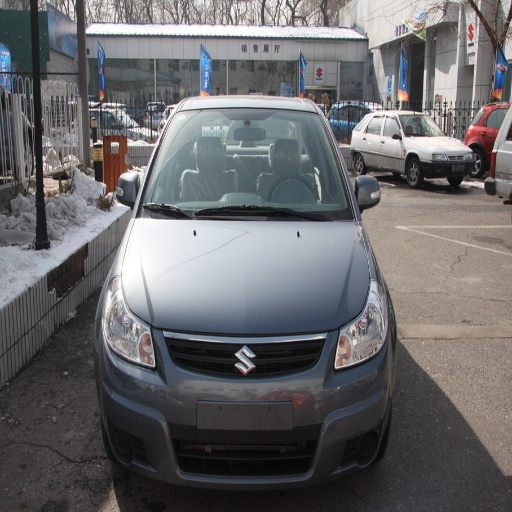front_bumper: (101, 326, 386, 489)
front_right_light: (99, 275, 156, 368)
hood: (129, 209, 365, 334)
